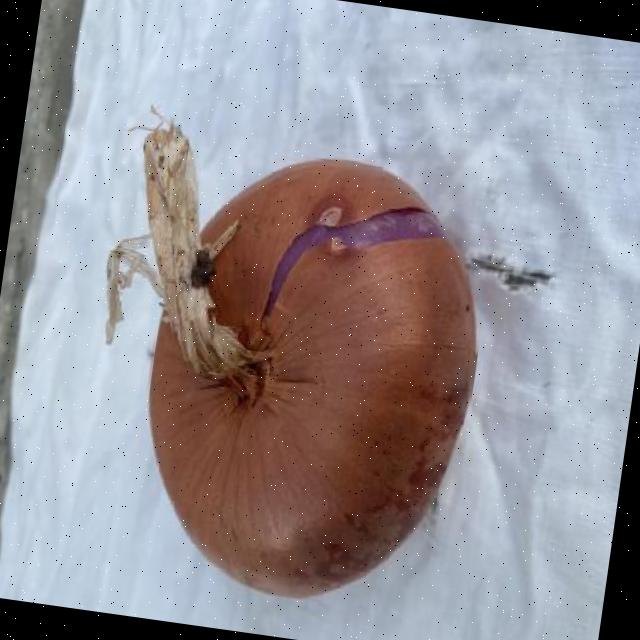Onion: (105, 109, 476, 597)
